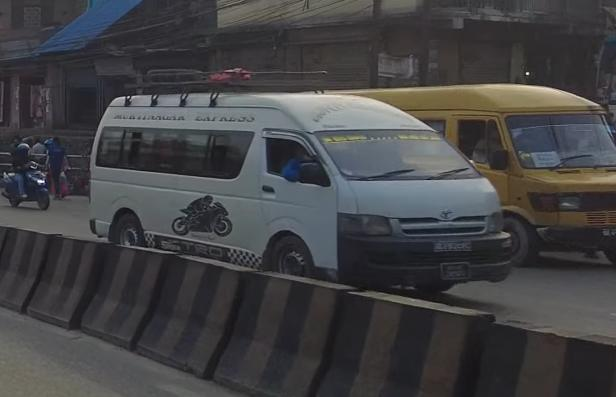micro_bus: (86, 82, 518, 298)
scooter: (1, 161, 53, 212)
